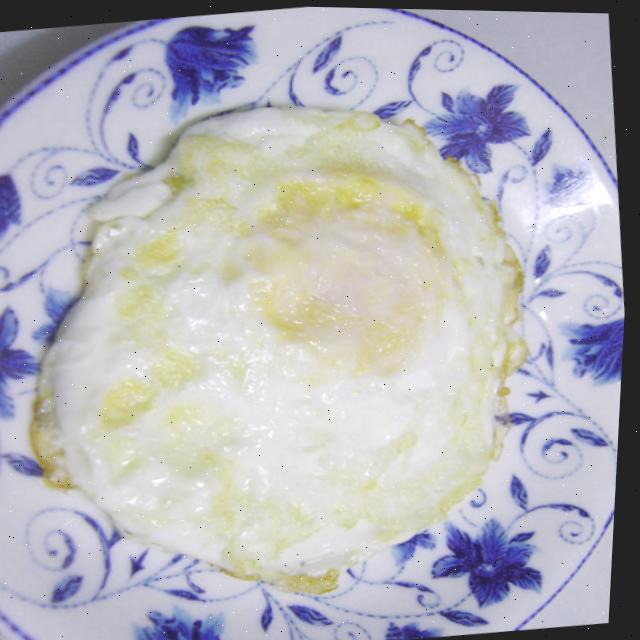鸡蛋料理: (22, 105, 562, 603)
